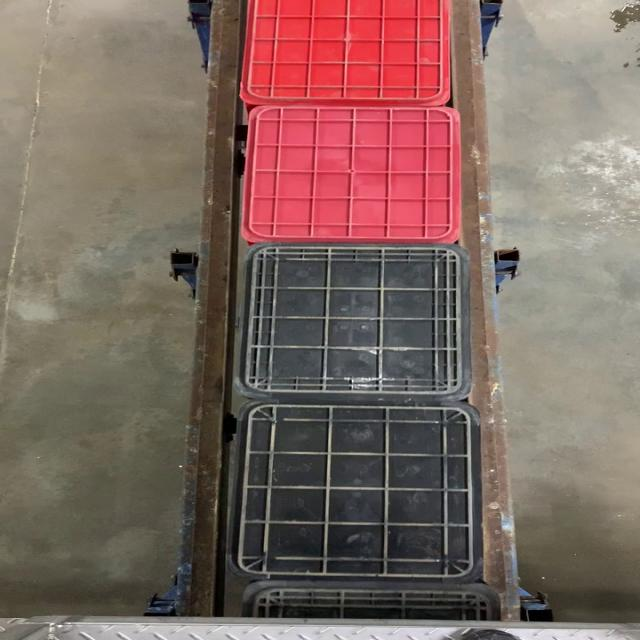Box: (231, 396, 483, 582), (237, 244, 467, 398), (238, 105, 462, 245)
